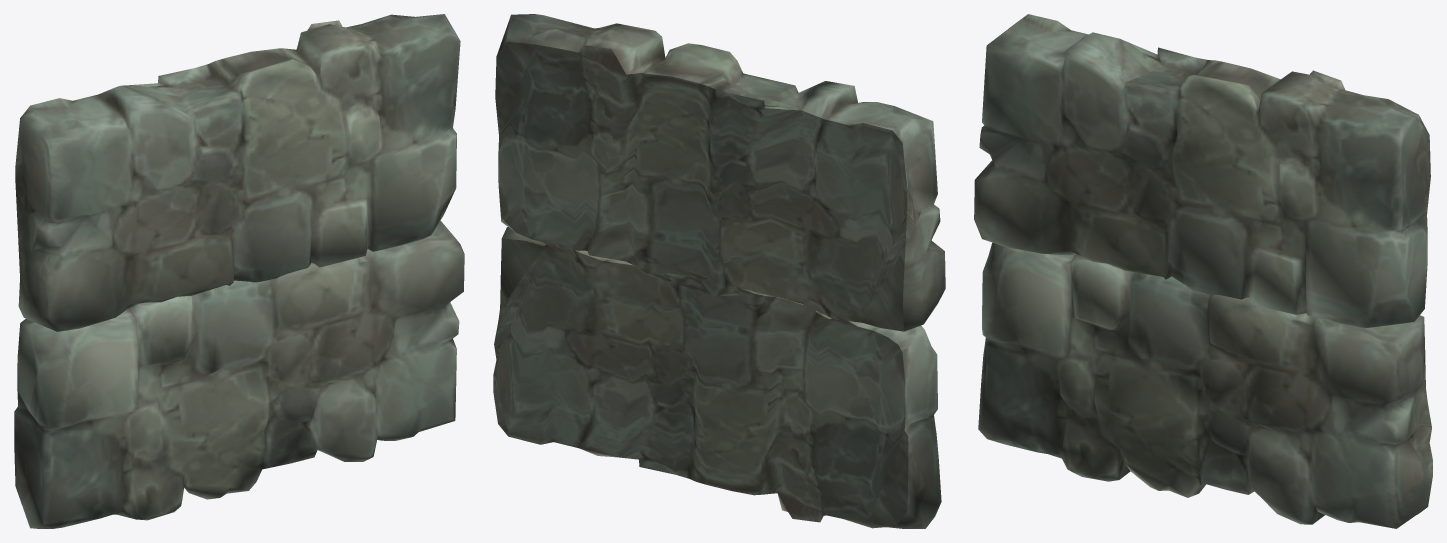
The model's file is RuinsFloor_A_Sqr.fbx.
The picture shows the model from 3 angles, left to right: view 1: azimuth 30°, elevation 25°; view 2: azimuth 150°, elevation 25°; view 3: azimuth 330°, elevation 25°; orthographic projection.
Parts seen in each view (by area): view 1: RuinsFloor_A_Sqr; view 2: RuinsFloor_A_Sqr; view 3: RuinsFloor_A_Sqr.
Boxes of the visible parts, x1=… form: RuinsFloor_A_Sqr: x1=14, y1=14, x2=464, y2=528; RuinsFloor_A_Sqr: x1=493, y1=14, x2=945, y2=528; RuinsFloor_A_Sqr: x1=974, y1=14, x2=1432, y2=528.
Bounding box in the file's own units: 852 × 843 × 133.
